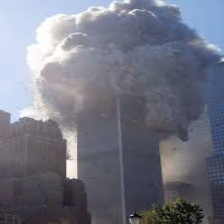smoke: (34, 11, 209, 121)
